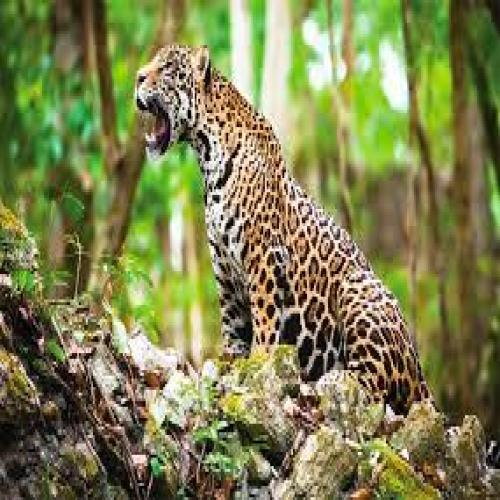jaguar_not-endangered: (136, 44, 434, 408)
